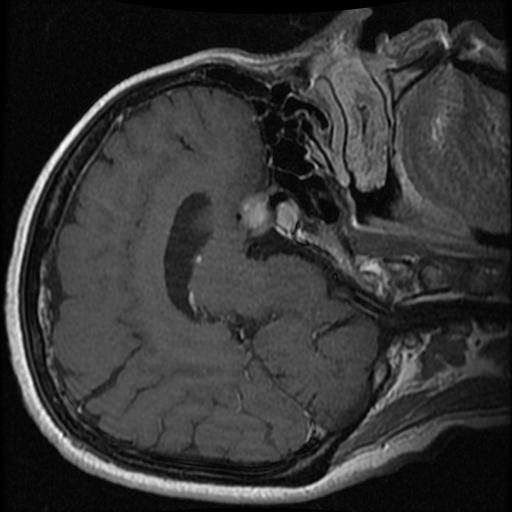pituitary tumour: (238, 192, 298, 234)
